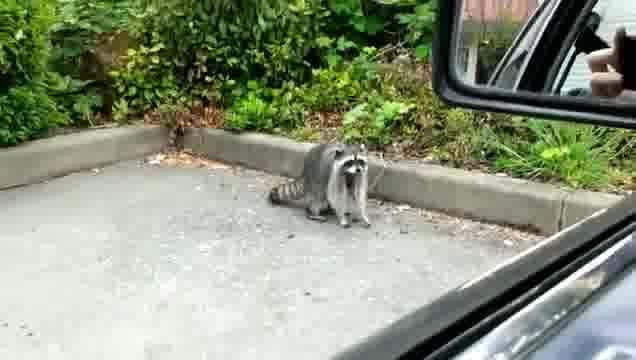raccoon: (268, 141, 370, 232)
